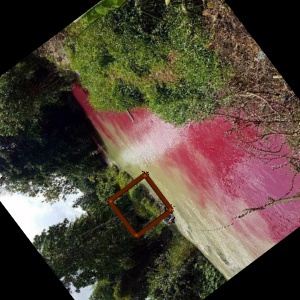square: (105, 170, 176, 240)
